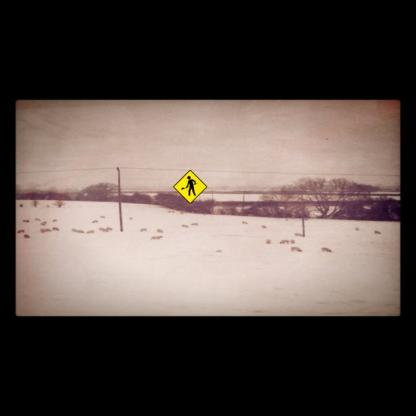A-24: (173, 170, 207, 204)
